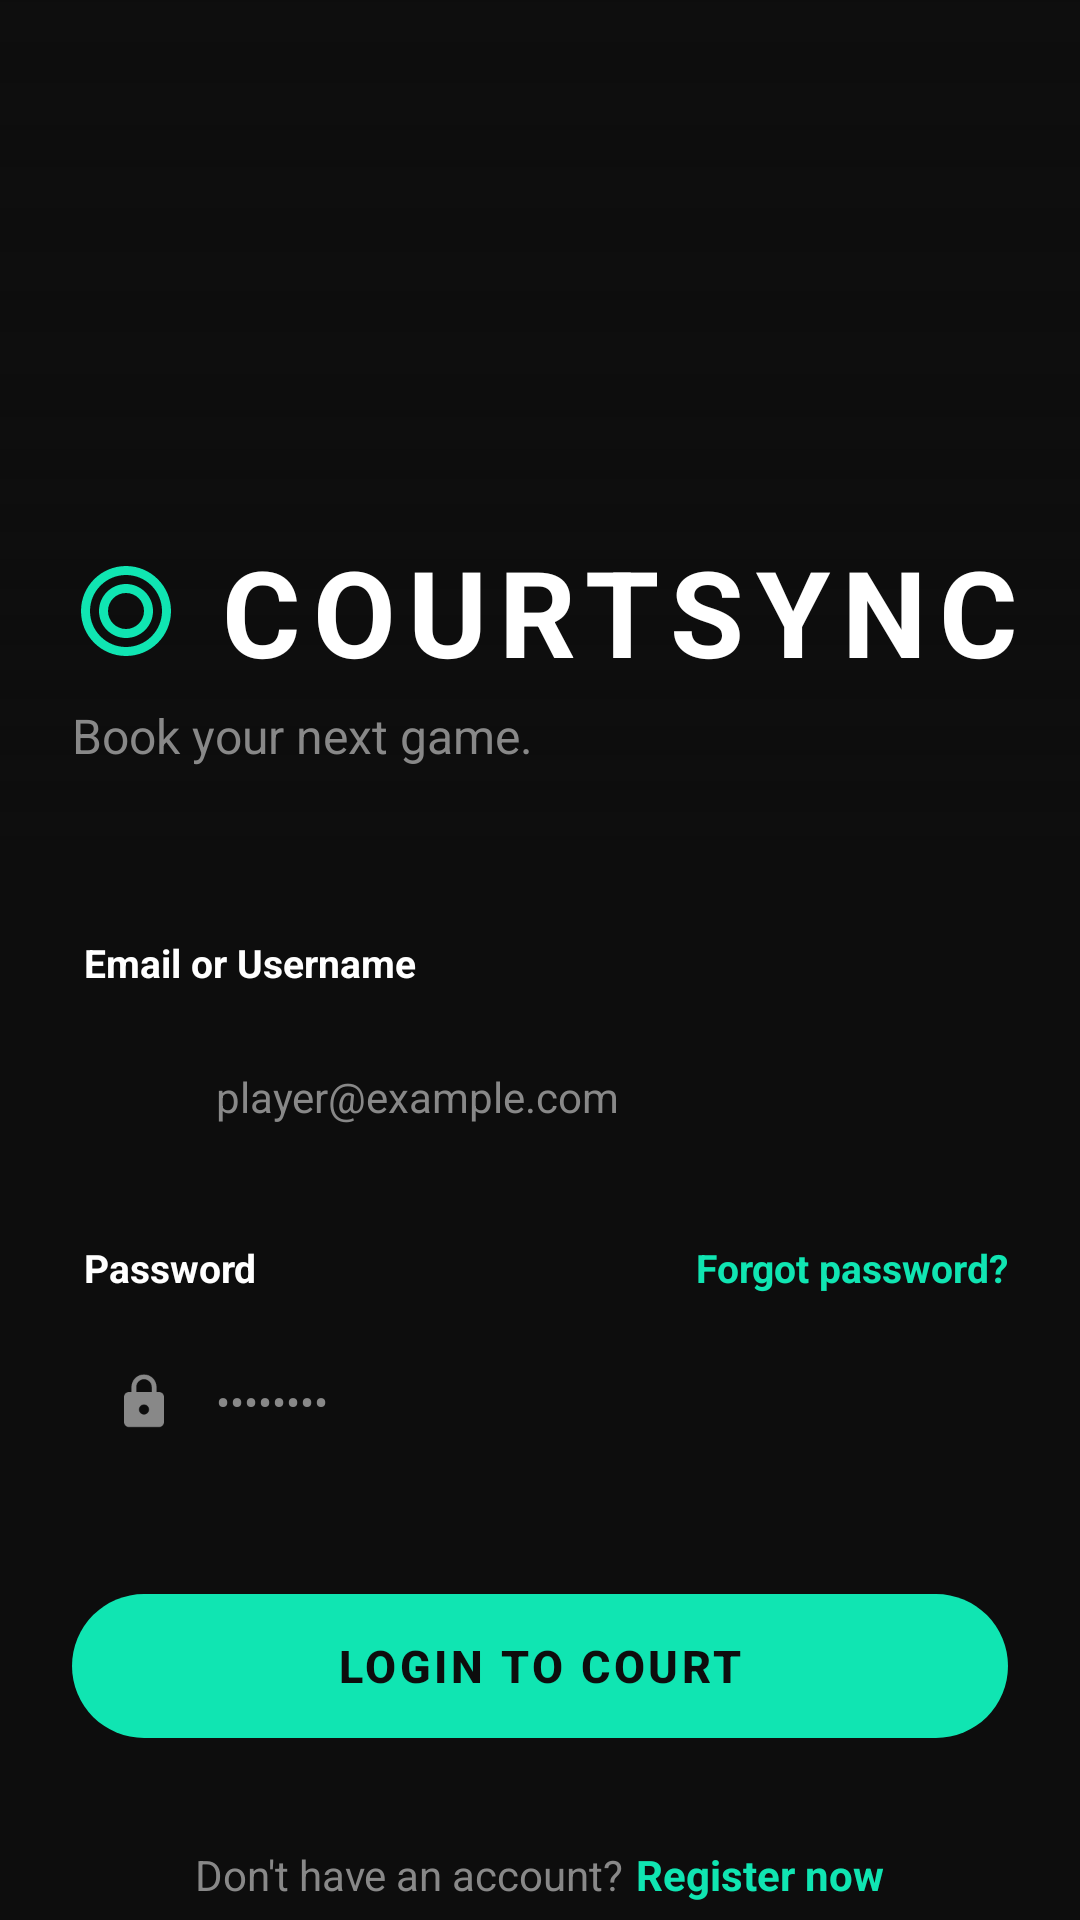

Named icons in this screenshot (1080 × 1920) and their centers, (x=x, y=y):
lock: (x=144, y=1400)
